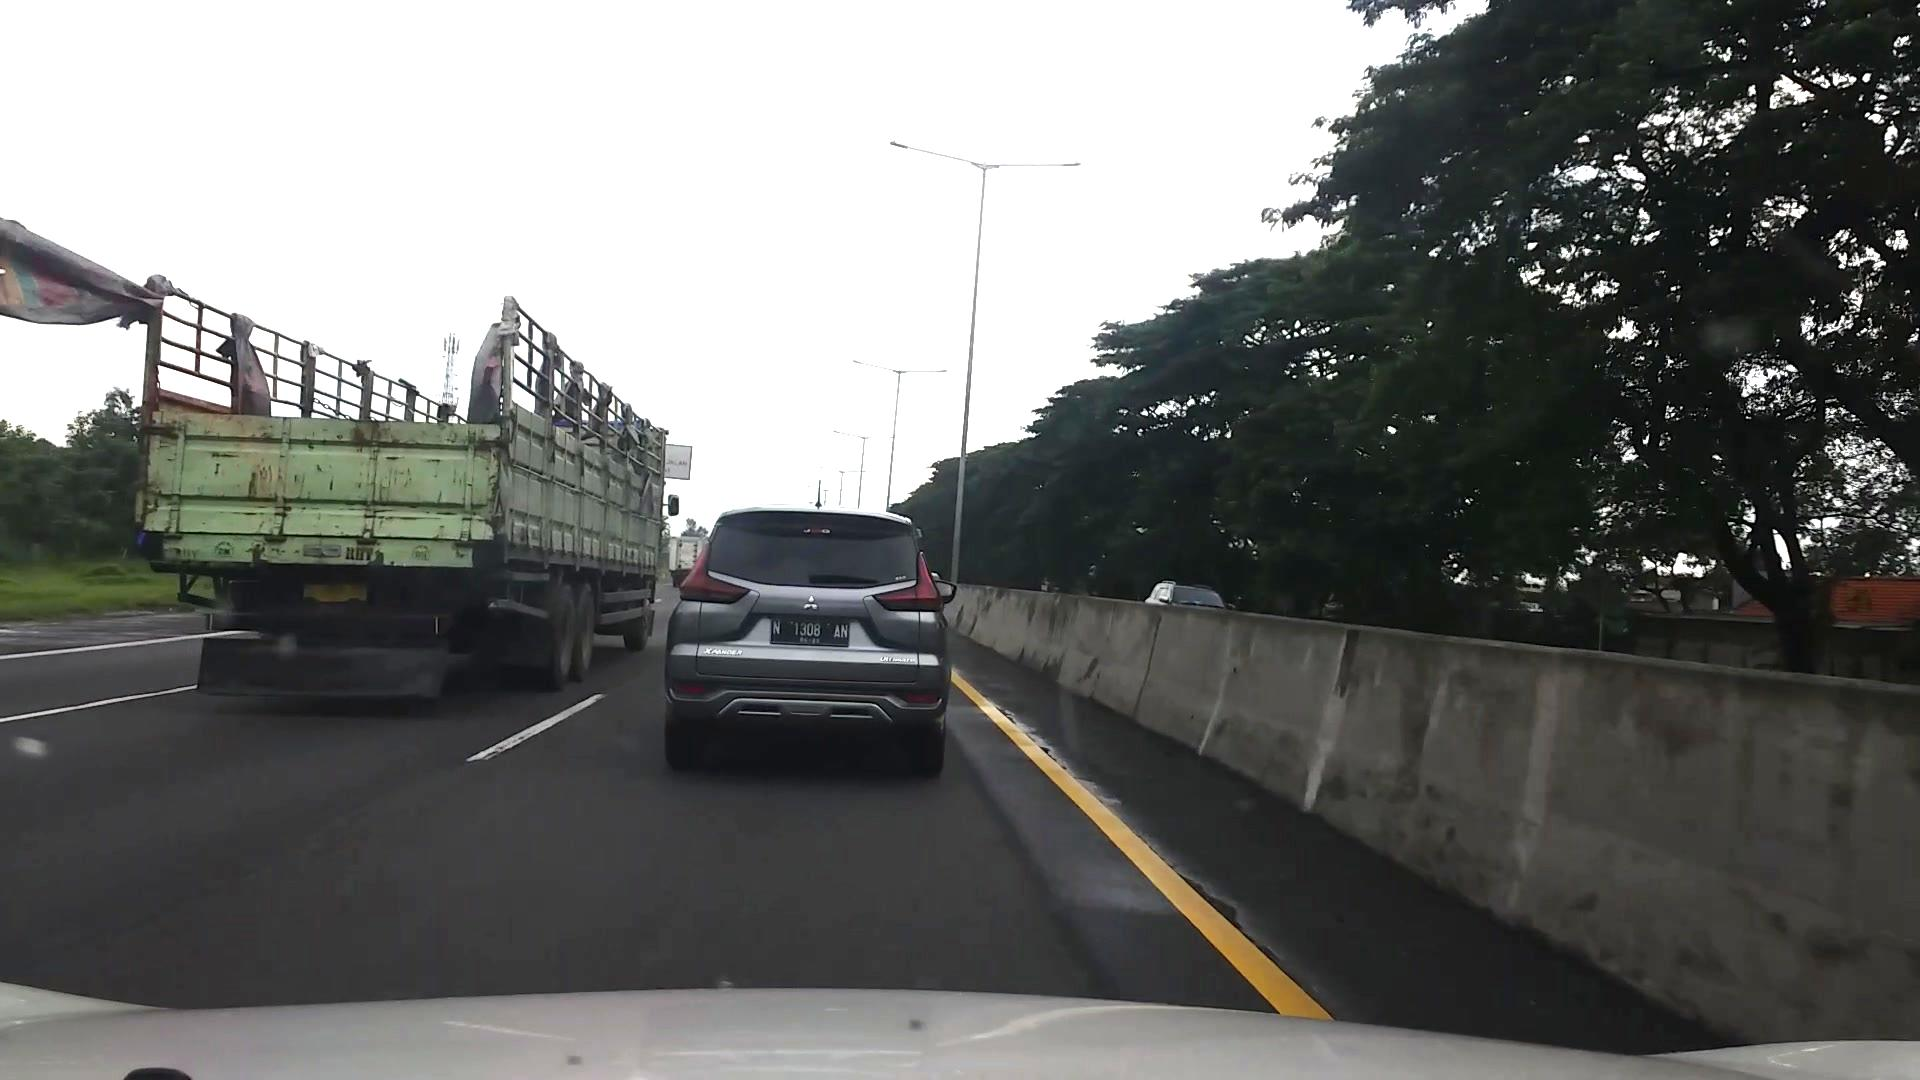plate_positive: (771, 617, 851, 647)
